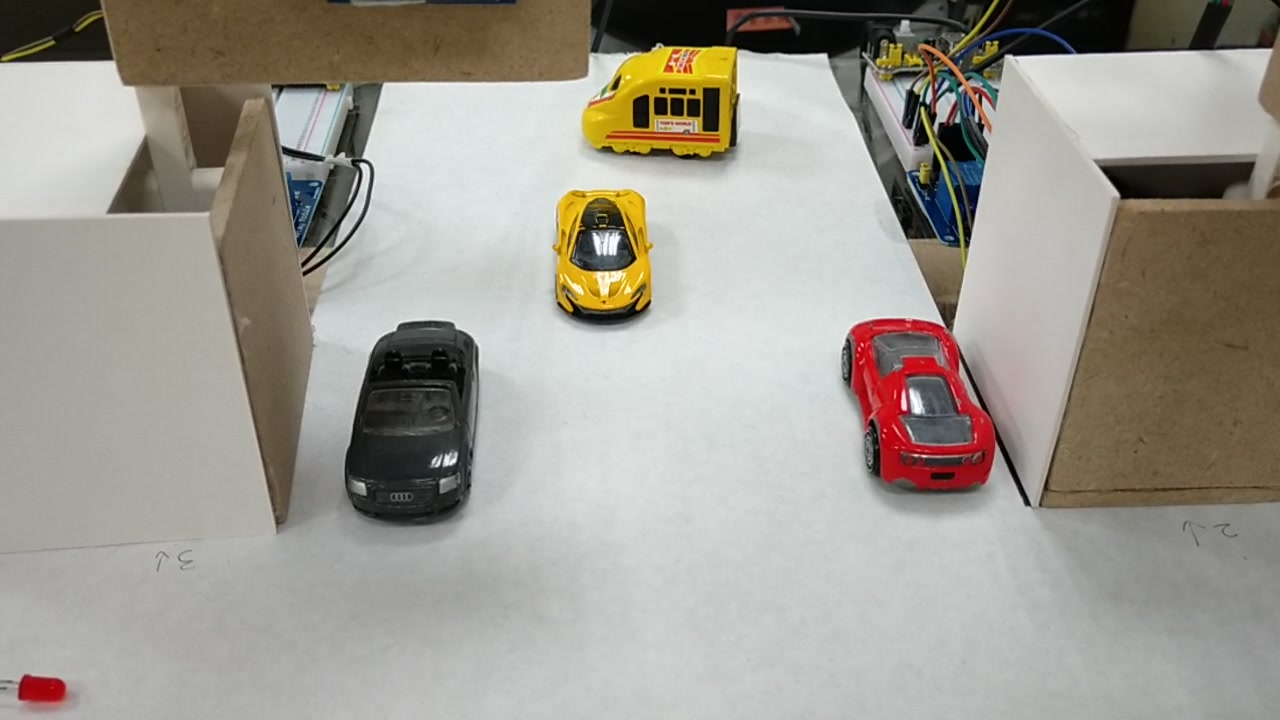car: (844, 325, 991, 494), (347, 329, 481, 511), (558, 182, 641, 310)
